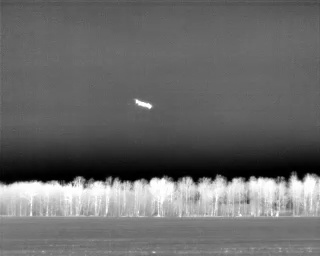DRONE: (131, 94, 156, 114)
